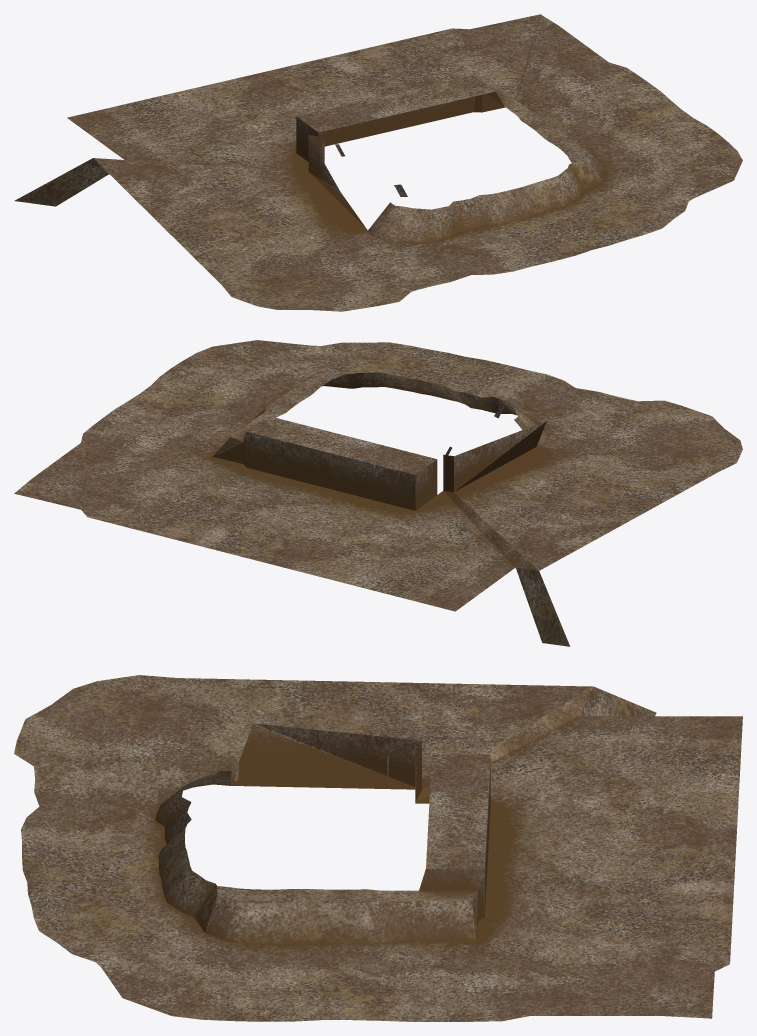
Rendered from suelo_exterior_2.obj.
The picture shows the model from 3 angles, top to bottom: view 1: azimuth 30°, elevation 25°; view 2: azimuth 150°, elevation 25°; view 3: azimuth 270°, elevation 25°; orthographic projection. The views are drawn at different scales.
Parts seen in each view (by area): view 1: suelo_exterior_2; view 2: suelo_exterior_2; view 3: suelo_exterior_2.
Part boxes in pixels (left/top/right/bottom): suelo_exterior_2: left=14, top=14, right=742, bottom=311; suelo_exterior_2: left=14, top=340, right=742, bottom=646; suelo_exterior_2: left=14, top=675, right=742, bottom=1021.
Size of the model in its own units: 2598 by 399 by 2208.
